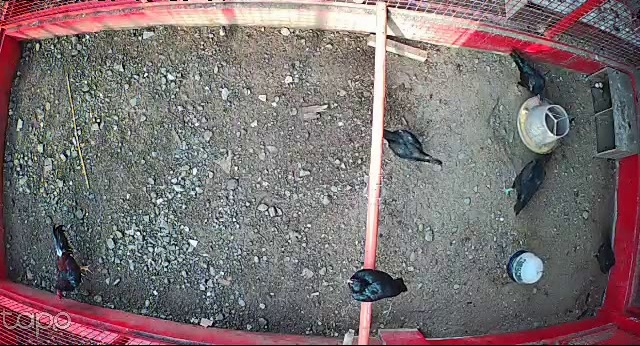Chicken: (497, 152, 556, 216), (369, 124, 443, 166), (344, 265, 410, 303), (508, 47, 547, 105), (591, 234, 621, 275)
Drinker: (507, 249, 545, 286)
Feeder: (517, 96, 570, 156)
Rooster: (45, 221, 97, 303)
